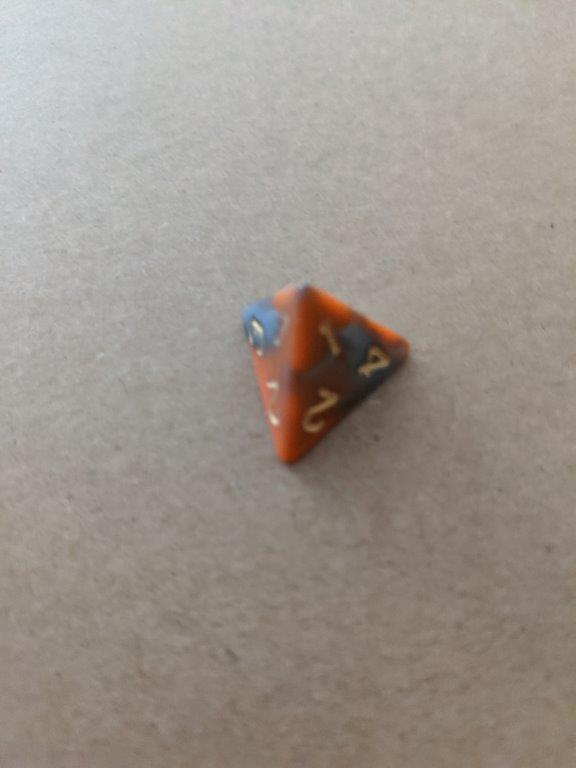d4-1: (241, 276, 414, 466)
